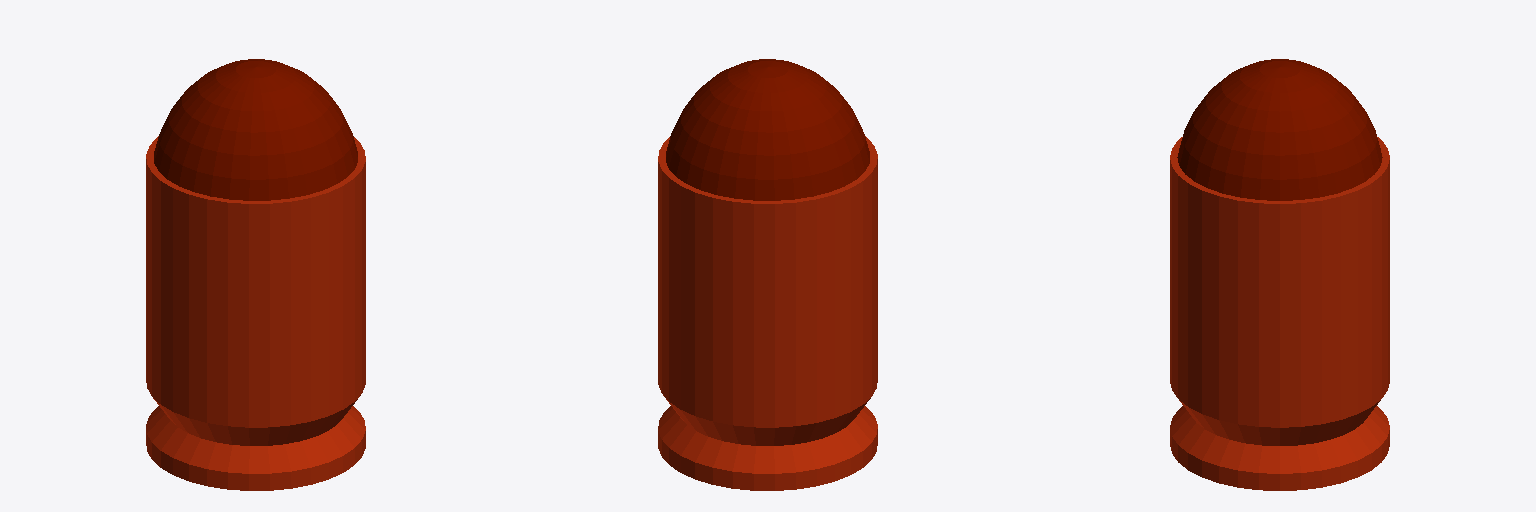
The model's file is bullet1.obj.
3 views of the same model, side by side, from view 1: azimuth 30°, elevation 25°; view 2: azimuth 150°, elevation 25°; view 3: azimuth 270°, elevation 25° (orthographic).
Visible parts, largest first — view 1: Cylinder, Sphere; view 2: Cylinder, Sphere; view 3: Cylinder, Sphere.
Part boxes in pixels (x1,y1,x2,y2): Cylinder: (146,136,365,490); Sphere: (154,59,357,200); Cylinder: (658,136,877,490); Sphere: (666,59,869,200); Cylinder: (1170,137,1389,490); Sphere: (1177,59,1382,200).
Size of the model in its own units: 0.4 by 0.7566 by 0.4.